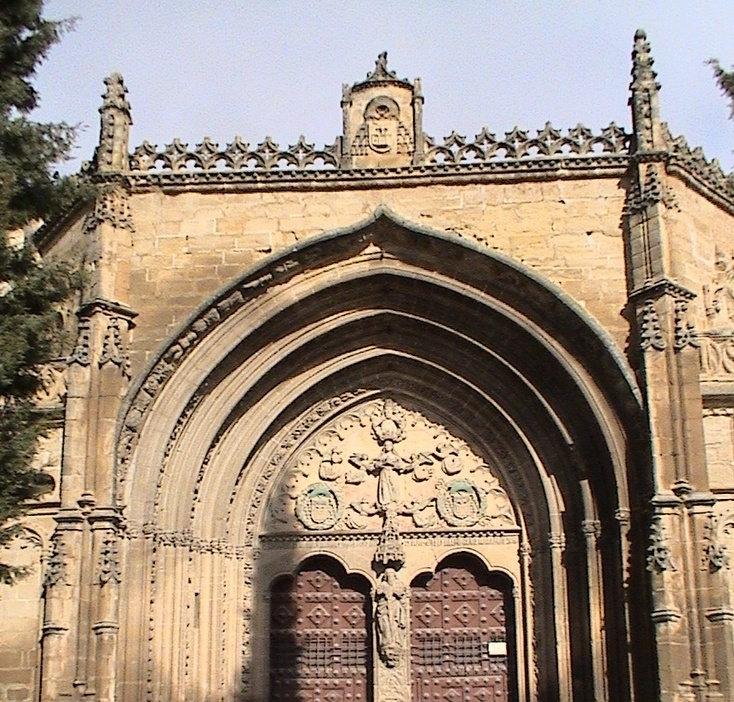arco-apuntado: (215, 261, 545, 523)
arco-conopial: (263, 199, 500, 255)
arco-trilobulado: (397, 543, 525, 607), (259, 547, 381, 608)
pinaculo-gotico: (625, 18, 668, 111)
